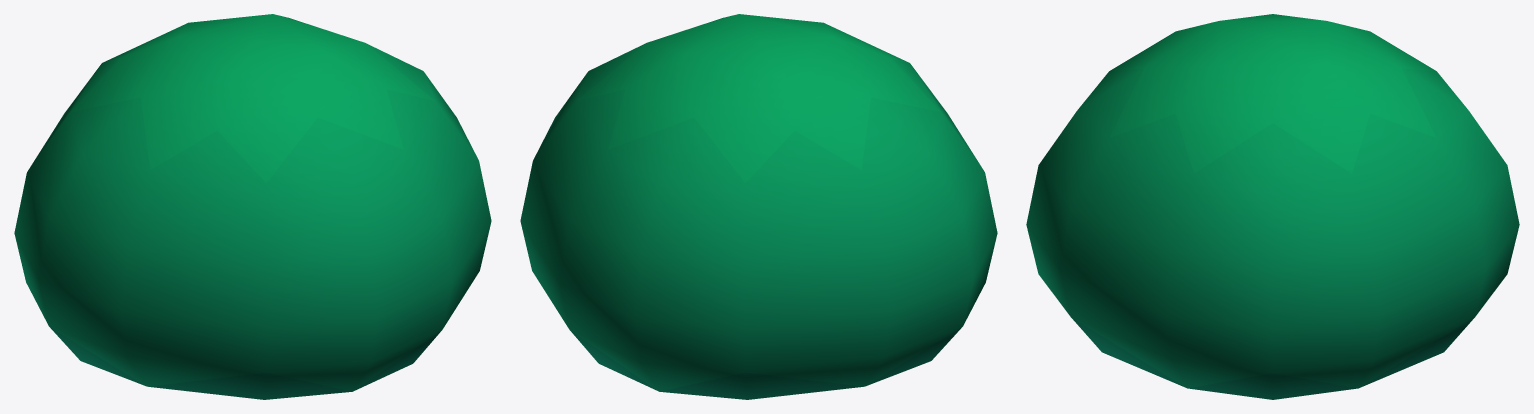
The model's file is Bush_1_C_Color2.fbx.
3 renders of one model, left to right at view 1: azimuth 30°, elevation 25°; view 2: azimuth 150°, elevation 25°; view 3: azimuth 270°, elevation 25°, orthographic.
Parts seen in each view (by area): view 1: Bush_1_C_Color2; view 2: Bush_1_C_Color2; view 3: Bush_1_C_Color2.
Boxes of the visible parts, x1=… form: Bush_1_C_Color2: x1=14, y1=14, x2=491, y2=399; Bush_1_C_Color2: x1=520, y1=14, x2=997, y2=399; Bush_1_C_Color2: x1=1026, y1=14, x2=1519, y2=399.
Size of the model in its own units: 1.2 by 0.8074 by 1.2.
